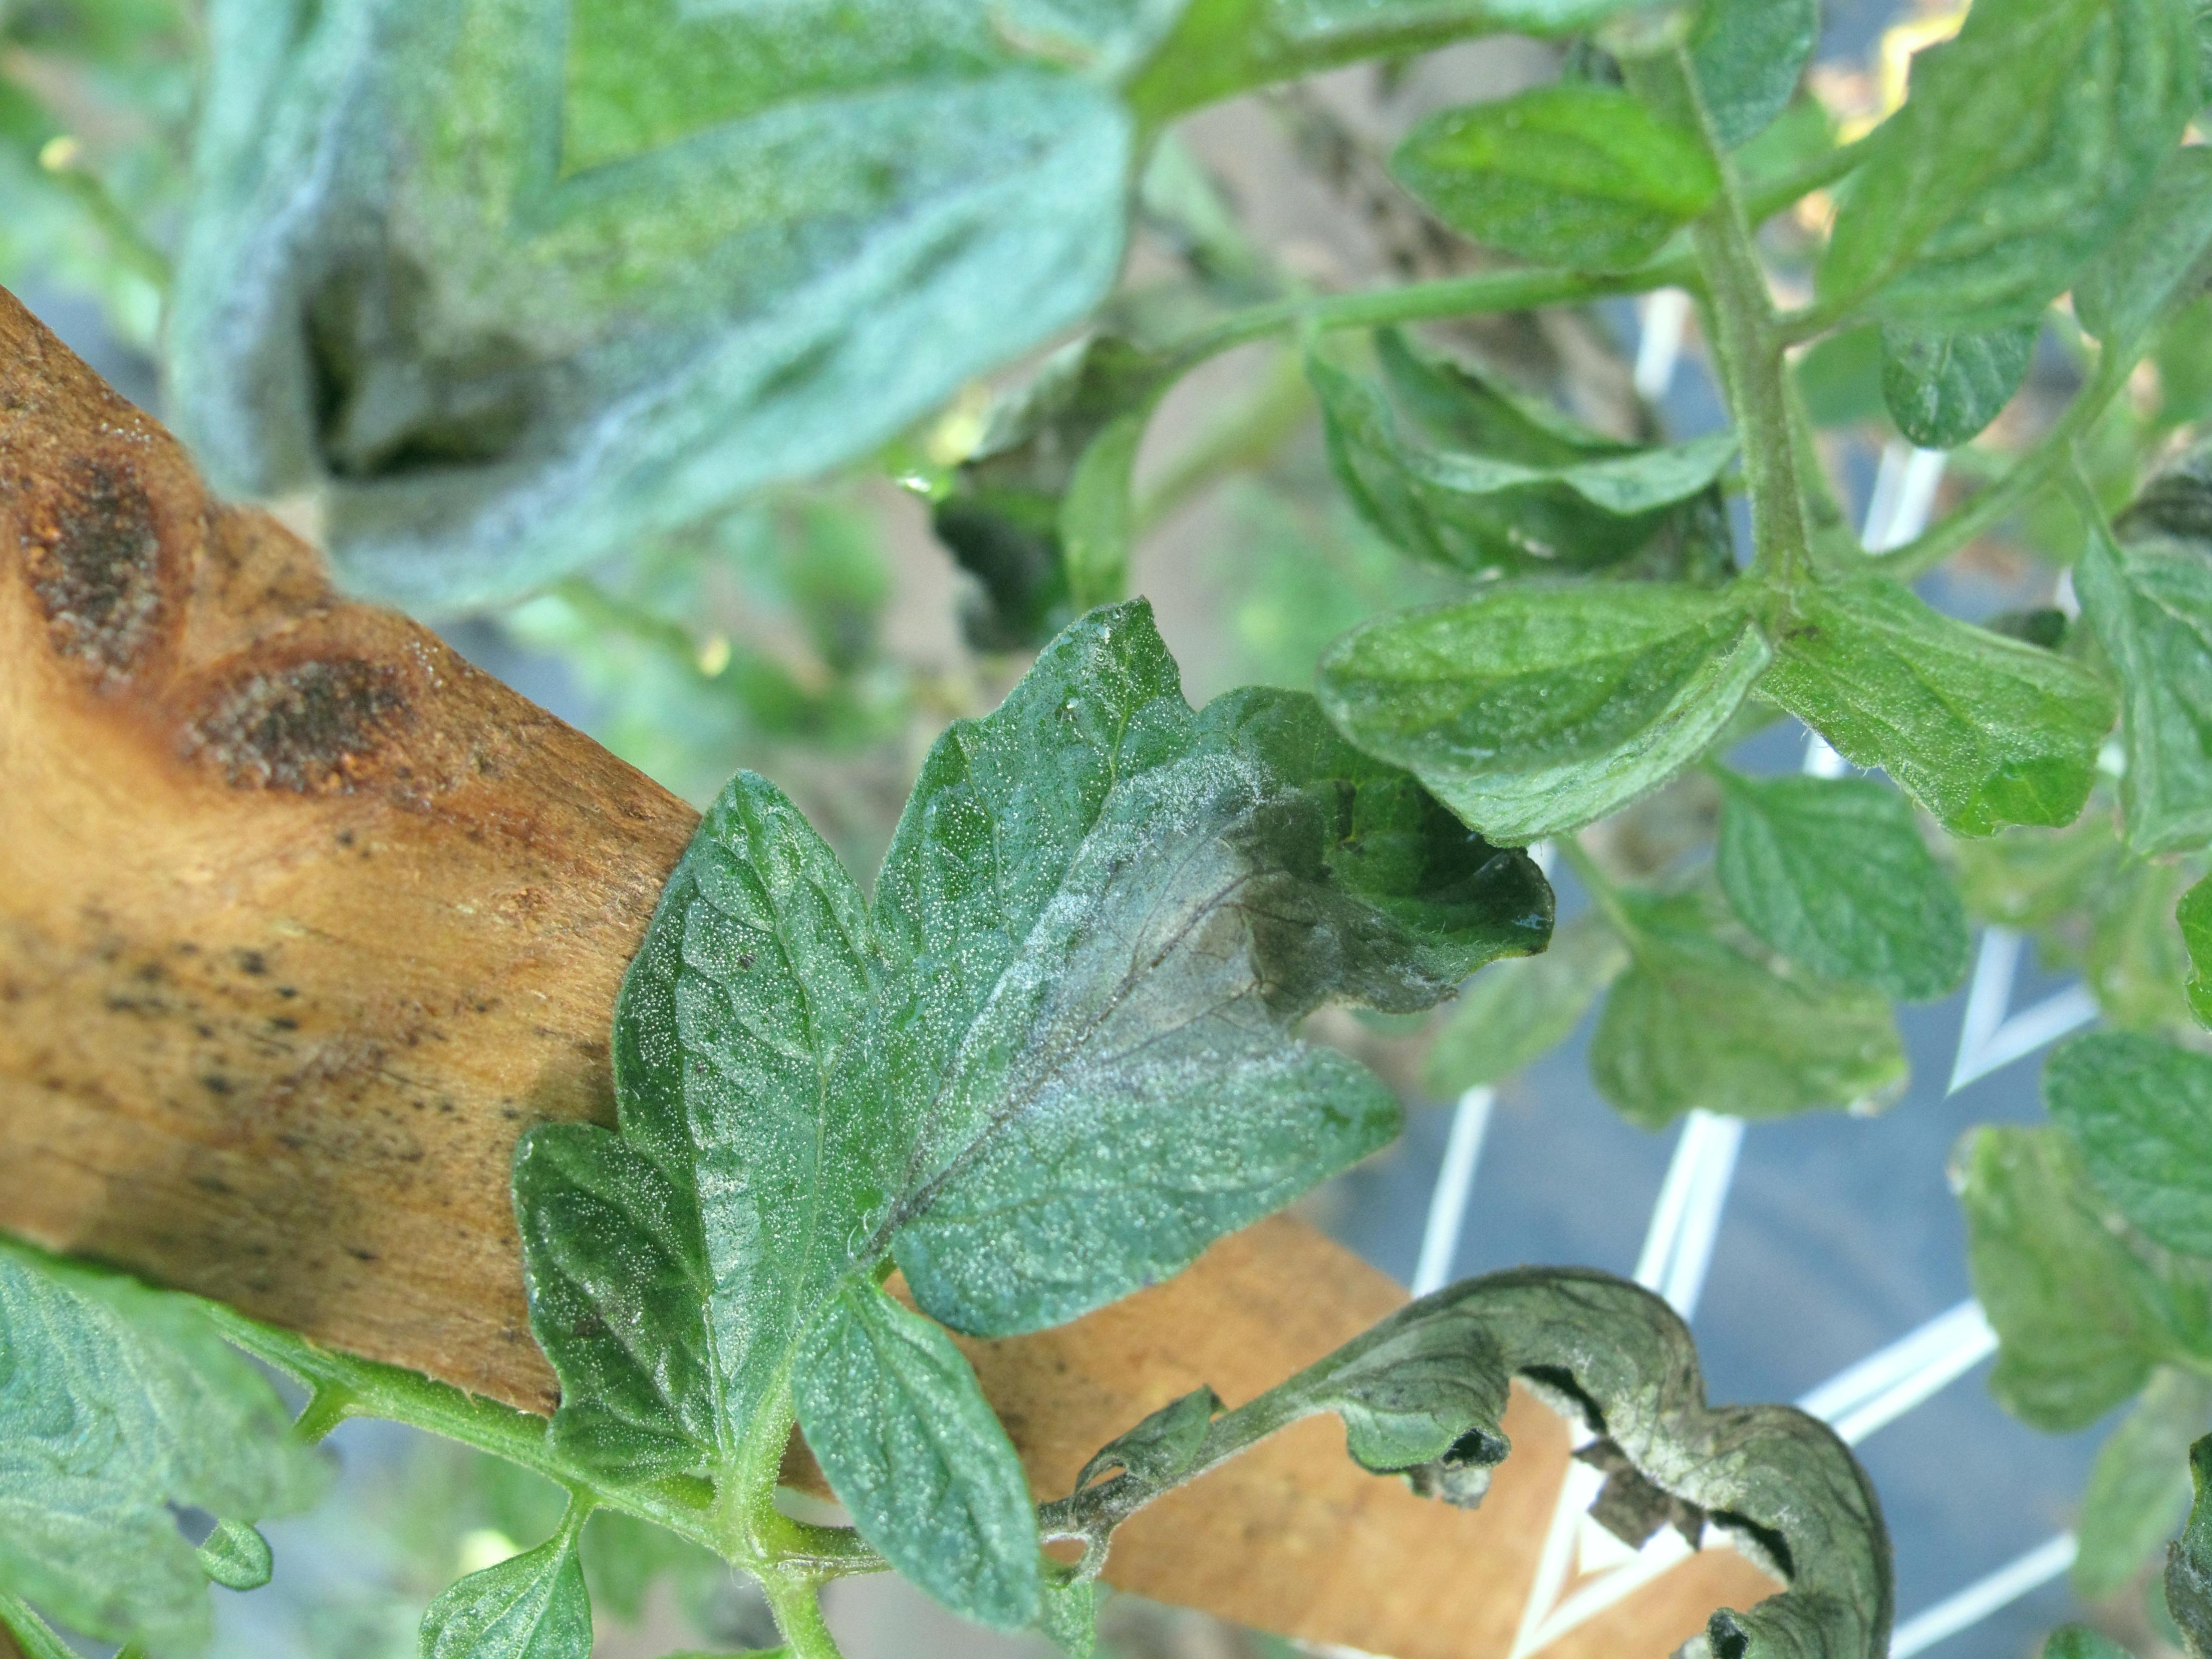Tomato leaf late blight: (278, 317, 1752, 1659)
